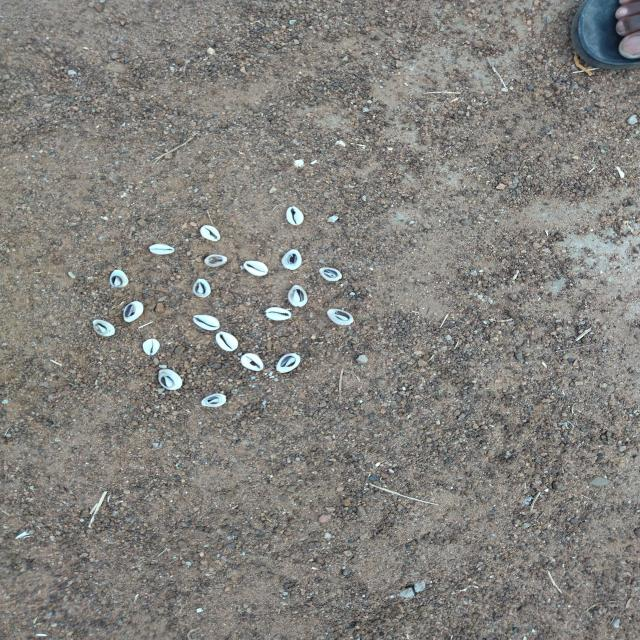facedown: (274, 351, 302, 374), (157, 367, 183, 391), (122, 300, 146, 323), (279, 249, 304, 271), (326, 308, 356, 326), (287, 283, 308, 308), (91, 318, 116, 338), (200, 392, 229, 409), (190, 277, 213, 298), (240, 352, 264, 372), (318, 266, 345, 282), (107, 270, 129, 288), (203, 253, 229, 268)
faceup: (280, 204, 308, 227), (213, 330, 240, 352), (192, 314, 222, 331), (264, 306, 293, 323), (197, 223, 222, 242), (244, 259, 270, 277), (147, 242, 176, 256), (141, 338, 160, 356)
